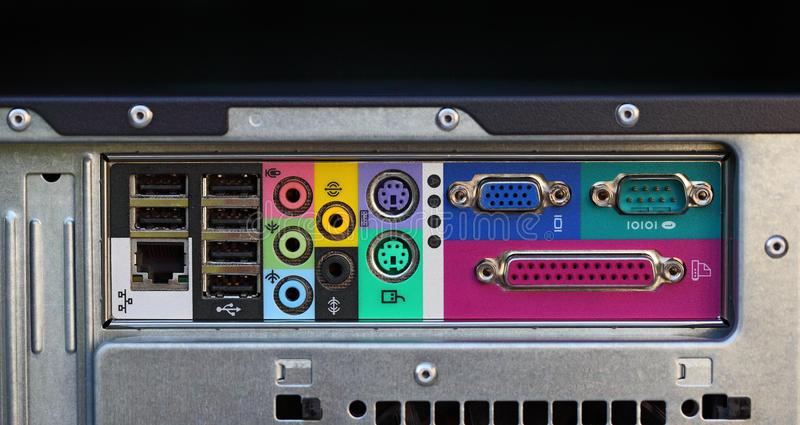Audio: (311, 196, 360, 242), (270, 221, 313, 264), (271, 271, 312, 316), (273, 172, 313, 216)
Ethernet: (128, 239, 187, 292)
USB: (124, 202, 195, 234), (199, 202, 263, 237), (200, 168, 263, 201), (196, 269, 262, 300), (124, 168, 191, 198), (198, 238, 264, 268)
VGA: (473, 178, 547, 213)
